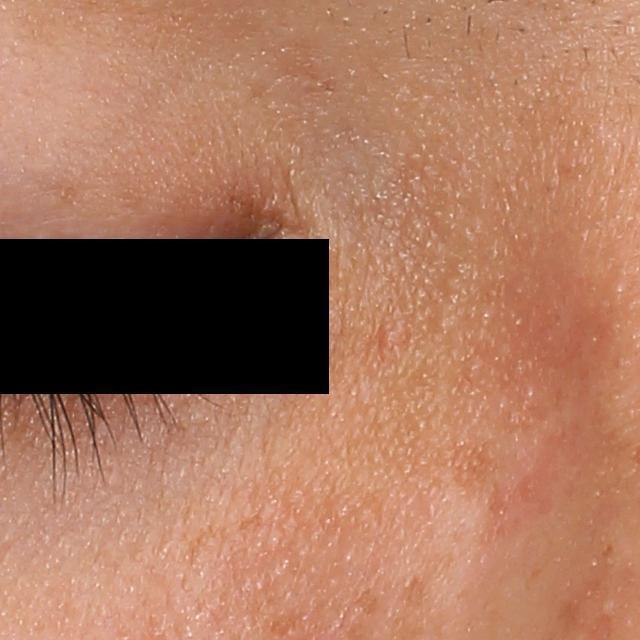melasma: (181, 510, 272, 574), (448, 442, 505, 499)
